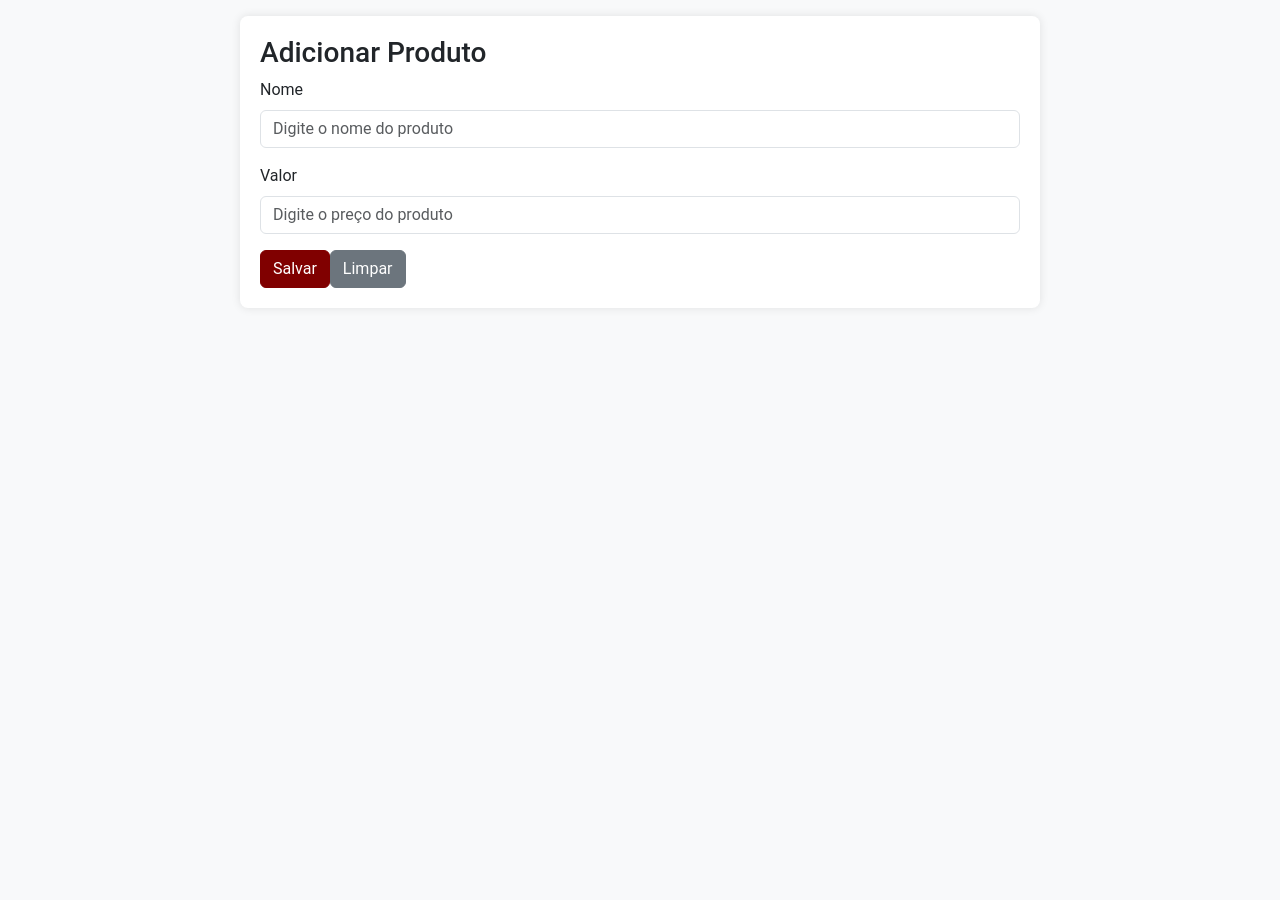
Test: AddProduct Component › shows success modal on successful product addition
In the field labelled "Nome": (640,129) [260,110,1020,148], type "Produto Teste"
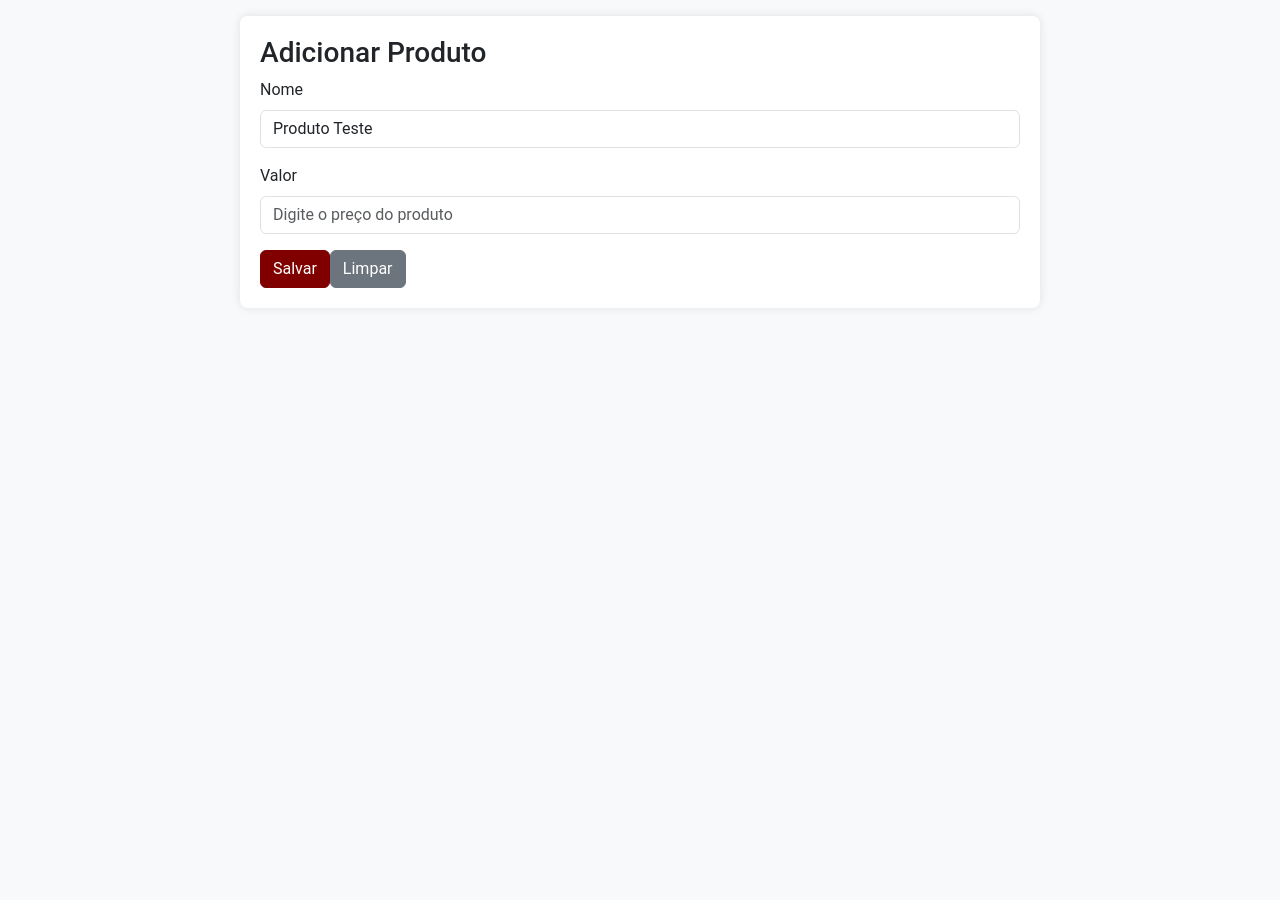
In the number field labelled "Valor": (640,215) [260,196,1020,234], type "100.00"
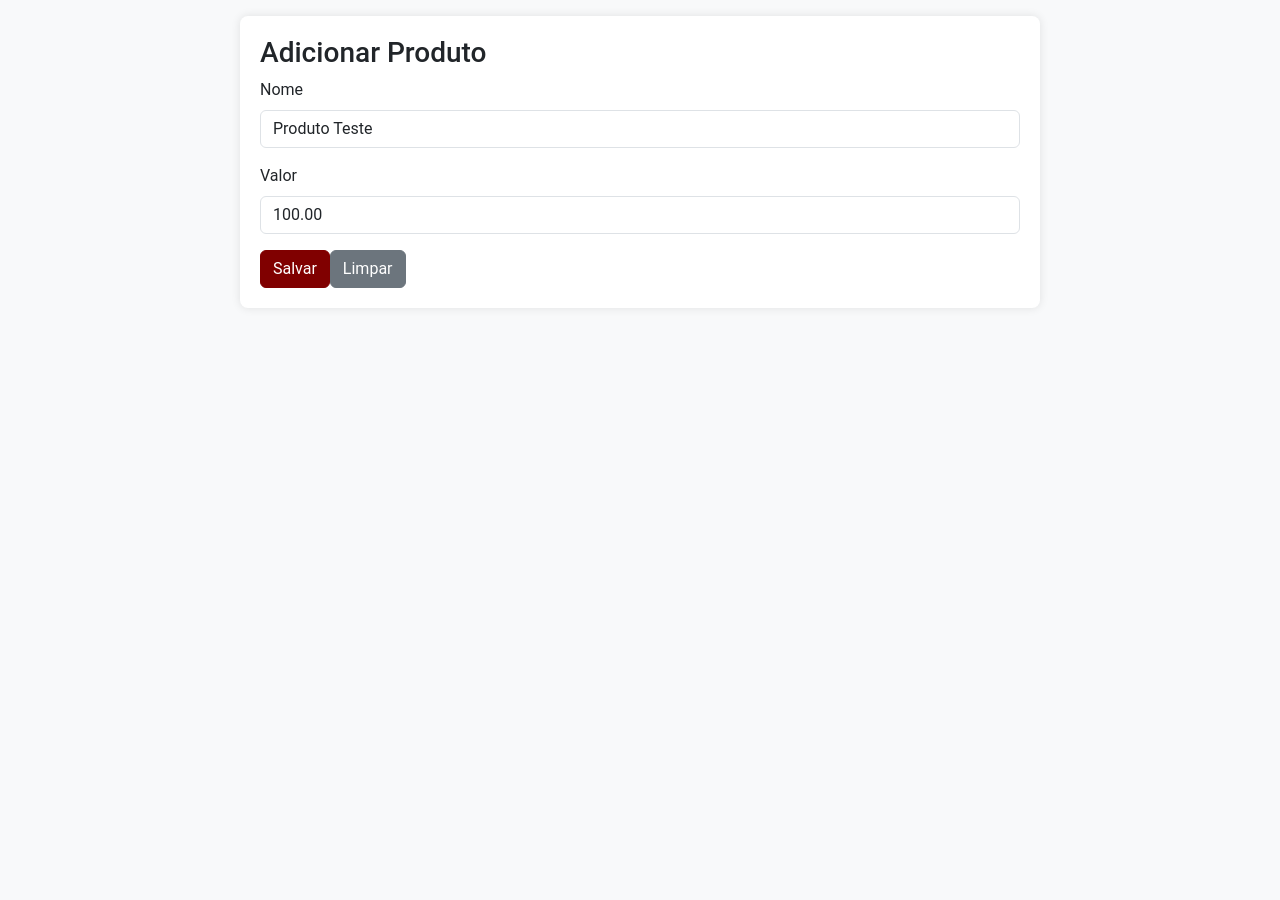
Click the button "Salvar": (295,269) [260,250,330,288]
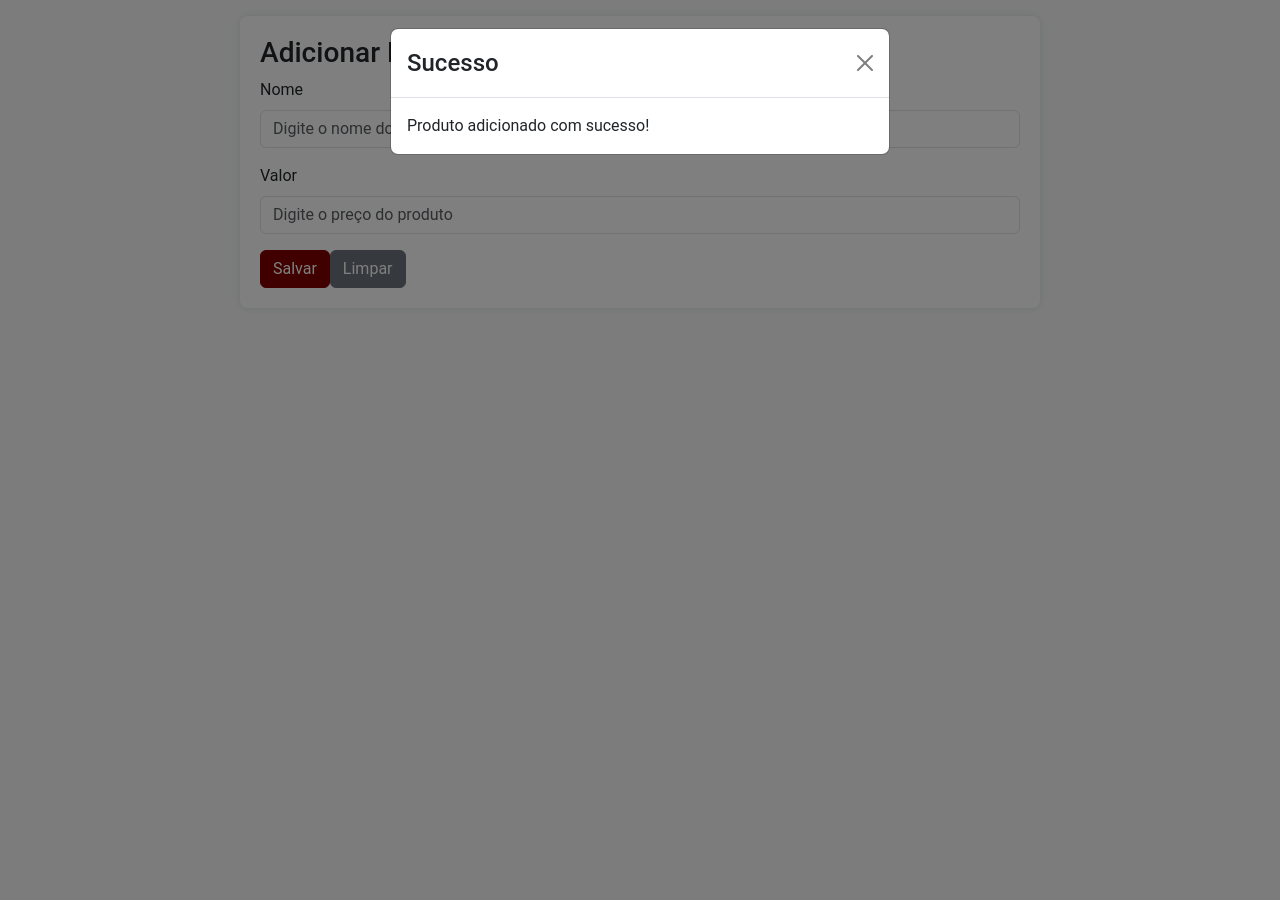
Expected: the text "Produto adicionado com sucesso!" is shown, [407,116,649,135]
